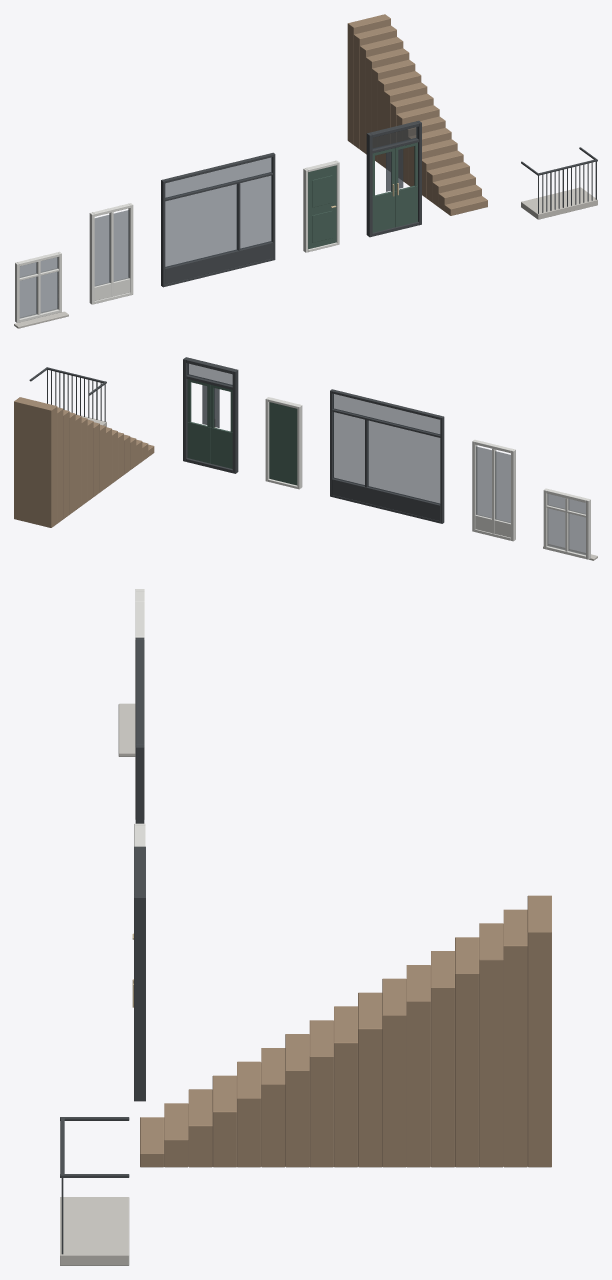
The model's file is kit.glb.
The picture shows the model from 3 angles, top to bottom: view 1: azimuth 30°, elevation 25°; view 2: azimuth 150°, elevation 25°; view 3: azimuth 270°, elevation 25°; orthographic projection. The views are drawn at different scales.
Visible parts, largest first — view 1: shopfront.glass, window_tall.glass, shopfront.kick, window_casement.glass, shopfront.glass.001, balcony.slab, stairs_straight.step16, stairs_straight.step15, door_flat.leaf, stairs_straight.step14, stairs_straight.step13, stairs_straight.step12 (+29 smaller); view 2: shopfront.glass, stairs_straight.step16, door_flat.leaf, window_tall.glass, shopfront.kick, window_casement.glass, shopfront.glass.001, door_entrance.leaf_bottom1, door_entrance.leaf_bottom-1, stairs_straight.step15, stairs_straight.step14, door_entrance.frame_l (+26 smaller); view 3: stairs_straight.step16, stairs_straight.step15, stairs_straight.step14, stairs_straight.step13, stairs_straight.step12, stairs_straight.step11, balcony.slab, stairs_straight.step10, stairs_straight.step09, stairs_straight.step08, stairs_straight.step07, stairs_straight.step06 (+9 smaller).
Part boxes in pixels (x1=…): shopfront.glass: x1=165, y1=175, x2=272, y2=267; window_tall.glass: x1=94, y1=210, x2=129, y2=286; shopfront.kick: x1=165, y1=241, x2=273, y2=284; window_casement.glass: x1=19, y1=257, x2=58, y2=318; shopfront.glass.001: x1=165, y1=157, x2=272, y2=198; balcony.slab: x1=521, y1=187, x2=597, y2=219; stairs_straight.step16: x1=347, y1=14, x2=390, y2=144; stairs_straight.step15: x1=353, y1=25, x2=396, y2=149; door_flat.leaf: x1=308, y1=165, x2=336, y2=249; stairs_straight.step14: x1=360, y1=37, x2=403, y2=153; stairs_straight.step13: x1=366, y1=48, x2=409, y2=154; stairs_straight.step12: x1=372, y1=59, x2=415, y2=162; shopfront.glass: x1=333, y1=412, x2=440, y2=504; stairs_straight.step16: x1=14, y1=397, x2=57, y2=527; door_flat.leaf: x1=269, y1=402, x2=297, y2=485; window_tall.glass: x1=476, y1=446, x2=510, y2=523; shopfront.kick: x1=332, y1=477, x2=440, y2=520; window_casement.glass: x1=547, y1=494, x2=585, y2=554; shopfront.glass.001: x1=333, y1=394, x2=440, y2=434; door_entrance.leaf_bottom1: x1=187, y1=422, x2=210, y2=463; door_entrance.leaf_bottom-1: x1=210, y1=427, x2=232, y2=468; stairs_straight.step15: x1=57, y1=407, x2=63, y2=523; stairs_straight.step14: x1=63, y1=409, x2=69, y2=518; door_entrance.frame_l: x1=232, y1=369, x2=238, y2=473; stairs_straight.step16: x1=527, y1=895, x2=551, y2=1167; stairs_straight.step15: x1=503, y1=909, x2=527, y2=1167; stairs_straight.step14: x1=479, y1=923, x2=503, y2=1167; stairs_straight.step13: x1=455, y1=937, x2=479, y2=1167; stairs_straight.step12: x1=431, y1=951, x2=454, y2=1167; stairs_straight.step11: x1=406, y1=965, x2=430, y2=1167; balcony.slab: x1=60, y1=1197, x2=129, y2=1265; stairs_straight.step10: x1=382, y1=978, x2=406, y2=1167; stairs_straight.step09: x1=358, y1=992, x2=382, y2=1167; stairs_straight.step08: x1=334, y1=1006, x2=357, y2=1167; stairs_straight.step07: x1=309, y1=1020, x2=333, y2=1167; stairs_straight.step06: x1=285, y1=1034, x2=309, y2=1167.
Bounding box in the file's own units: 15.08 × 3.14 × 5.68.
